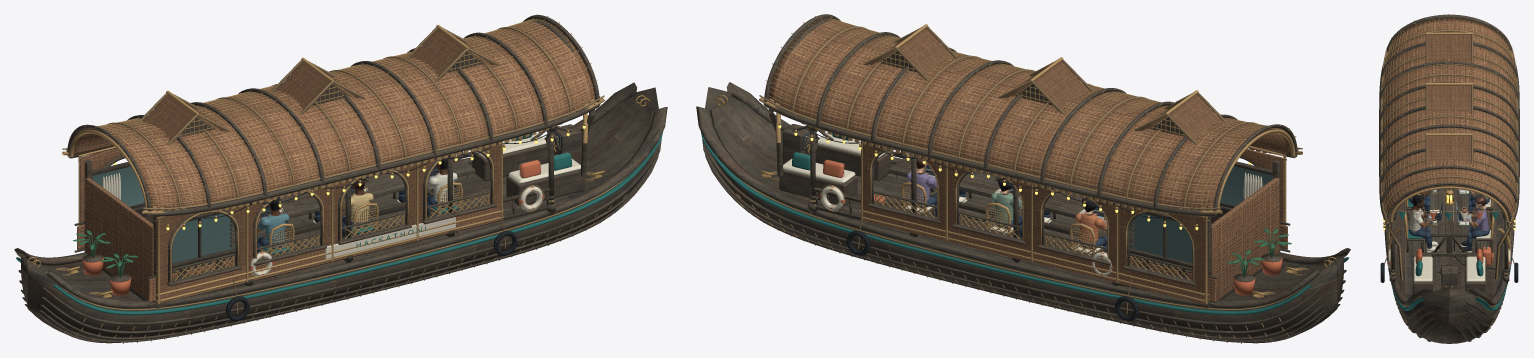
Rendered from houseboat.glb.
3 views of the same model, side by side, from view 1: azimuth 30°, elevation 25°; view 2: azimuth 150°, elevation 25°; view 3: azimuth 270°, elevation 25° (orthographic). The views are drawn at different scales.
Parts seen in each view (by area): view 1: Canopy / 06 / handwoven palm mat, Canopy / 07 / honey cane, Boat / 04 / resin-darkened timber, Boat / 01 / oiled jackwood grain, Canopy / 02 / dark carved teak, Boat / 02 / dark carved teak, Boat / 06 / handwoven palm mat, Canopy / 08 / coir rope, Canopy / 01 / oiled jackwood grain, Boat / 05 / weathered lagoon enamel, Boat / 10 / unbleached cotton, Boat / 19 / smoky glass (+10 smaller); view 2: Canopy / 06 / handwoven palm mat, Canopy / 07 / honey cane, Boat / 04 / resin-darkened timber, Boat / 01 / oiled jackwood grain, Canopy / 02 / dark carved teak, Boat / 02 / dark carved teak, Boat / 06 / handwoven palm mat, Canopy / 08 / coir rope, Canopy / 01 / oiled jackwood grain, Boat / 05 / weathered lagoon enamel, Boat / 19 / smoky glass, Boat / 10 / unbleached cotton (+10 smaller); view 3: Canopy / 06 / handwoven palm mat, Boat / 01 / oiled jackwood grain, Canopy / 07 / honey cane, Canopy / 02 / dark carved teak, Canopy / 08 / coir rope, Boat / 04 / resin-darkened timber, Boat / 02 / dark carved teak, Boat / 10 / unbleached cotton, Boat / 05 / weathered lagoon enamel, Canopy / 01 / oiled jackwood grain, Boat / Indigo denim, Boat / 11 / terracotta linen (+8 smaller).
Part boxes in pixels (x1,y1,x2,y2): Canopy / 06 / handwoven palm mat: (73,19,595,303); Canopy / 07 / honey cane: (62,19,604,303); Boat / 04 / resin-darkened timber: (21,87,658,340); Boat / 01 / oiled jackwood grain: (14,82,667,308); Canopy / 02 / dark carved teak: (67,15,600,285); Boat / 02 / dark carved teak: (18,140,661,343); Boat / 06 / handwoven palm mat: (77,178,234,302); Canopy / 08 / coir rope: (62,14,604,300); Canopy / 01 / oiled jackwood grain: (167,20,594,286); Boat / 05 / weathered lagoon enamel: (16,132,662,315); Boat / 10 / unbleached cotton: (102,133,580,276); Boat / 19 / smoky glass: (92,166,235,263); Canopy / 06 / handwoven palm mat: (768,19,1291,304); Canopy / 07 / honey cane: (759,18,1302,303); Boat / 04 / resin-darkened timber: (705,87,1344,340); Boat / 01 / oiled jackwood grain: (696,82,1350,308); Canopy / 02 / dark carved teak: (763,14,1297,285); Boat / 02 / dark carved teak: (702,140,1346,343); Boat / 06 / handwoven palm mat: (1129,177,1287,302); Canopy / 08 / coir rope: (759,16,1302,300); Canopy / 01 / oiled jackwood grain: (769,20,1196,286); Boat / 05 / weathered lagoon enamel: (700,131,1348,315); Boat / 19 / smoky glass: (1129,166,1272,263); Boat / 10 / unbleached cotton: (783,132,1262,275); Canopy / 06 / handwoven palm mat: (1382,18,1516,248); Boat / 01 / oiled jackwood grain: (1384,189,1514,323); Canopy / 07 / honey cane: (1382,18,1516,279); Canopy / 02 / dark carved teak: (1379,14,1519,281); Canopy / 08 / coir rope: (1381,14,1518,274); Boat / 04 / resin-darkened timber: (1397,202,1501,343); Boat / 02 / dark carved teak: (1393,191,1505,341); Boat / 10 / unbleached cotton: (1388,189,1510,281); Boat / 05 / weathered lagoon enamel: (1386,191,1512,310); Canopy / 01 / oiled jackwood grain: (1387,202,1511,283); Boat / Indigo denim: (1409,195,1489,248); Boat / 11 / terracotta linen: (1388,209,1510,265).
Size of the model in its own units: 16.45 by 5.46 by 4.17.
39 materials, 11 textured.
